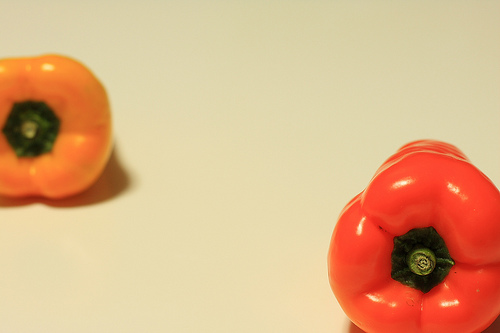capsicum: (325, 137, 499, 332), (0, 54, 113, 202)
